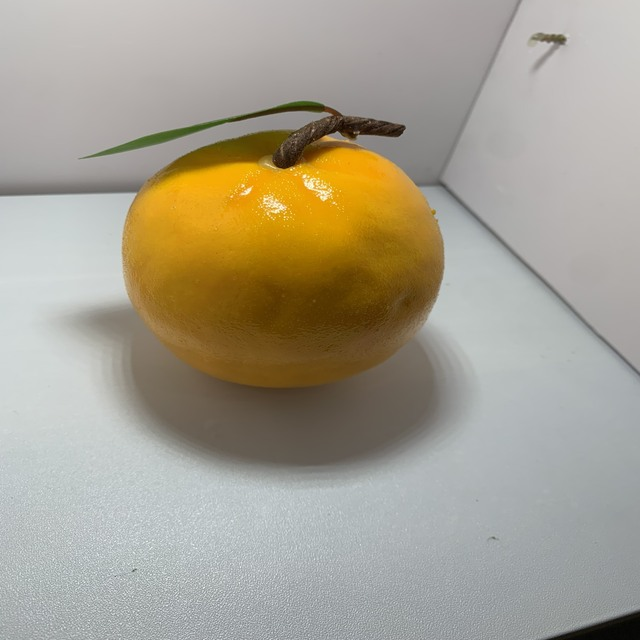Cam vang: (117, 97, 455, 398)
